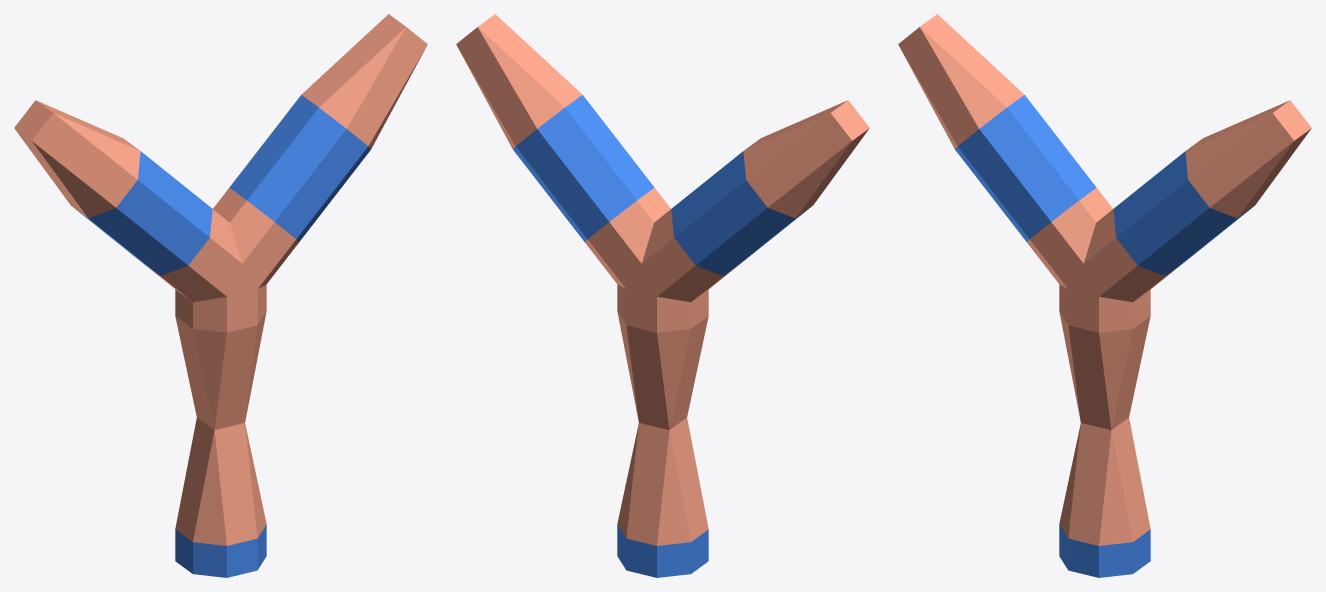
The model's file is mesh_sling.obj.
3 views of the same model, side by side, from view 1: azimuth 30°, elevation 25°; view 2: azimuth 150°, elevation 25°; view 3: azimuth 330°, elevation 25° (orthographic).
Visible parts, largest first — view 1: mergedBlocks; view 2: mergedBlocks; view 3: mergedBlocks.
Boxes of the visible parts, box(x1,y1,x2,y2) form: mergedBlocks: box(14, 14, 427, 577); mergedBlocks: box(456, 14, 869, 577); mergedBlocks: box(898, 14, 1311, 577).
Bounding box in the file's own units: 1.94 × 2.32 × 0.3621.
